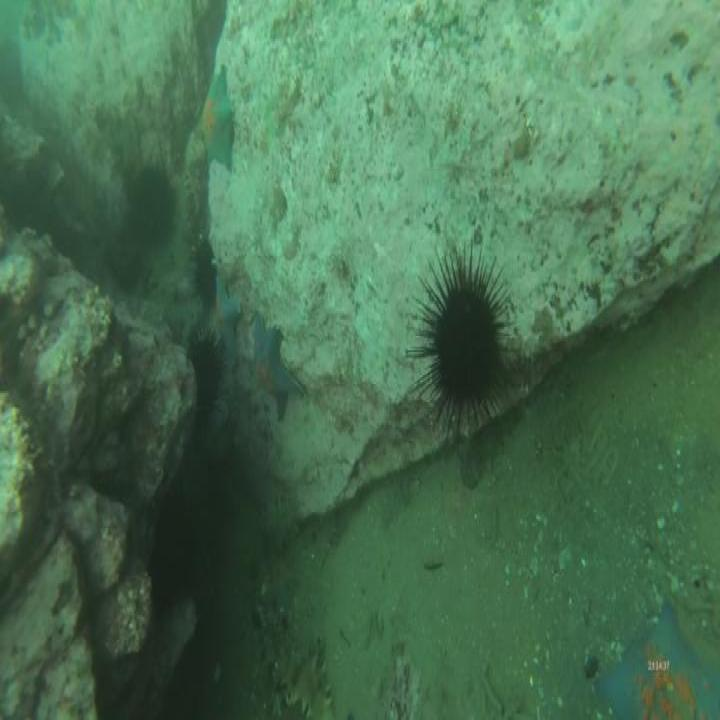echinus: (417, 258, 513, 430), (120, 154, 179, 252), (182, 235, 225, 318)
holothurian: (251, 595, 335, 720), (256, 489, 299, 556)
starfish: (591, 586, 719, 720), (247, 311, 306, 429), (198, 64, 236, 176), (211, 272, 244, 368)
